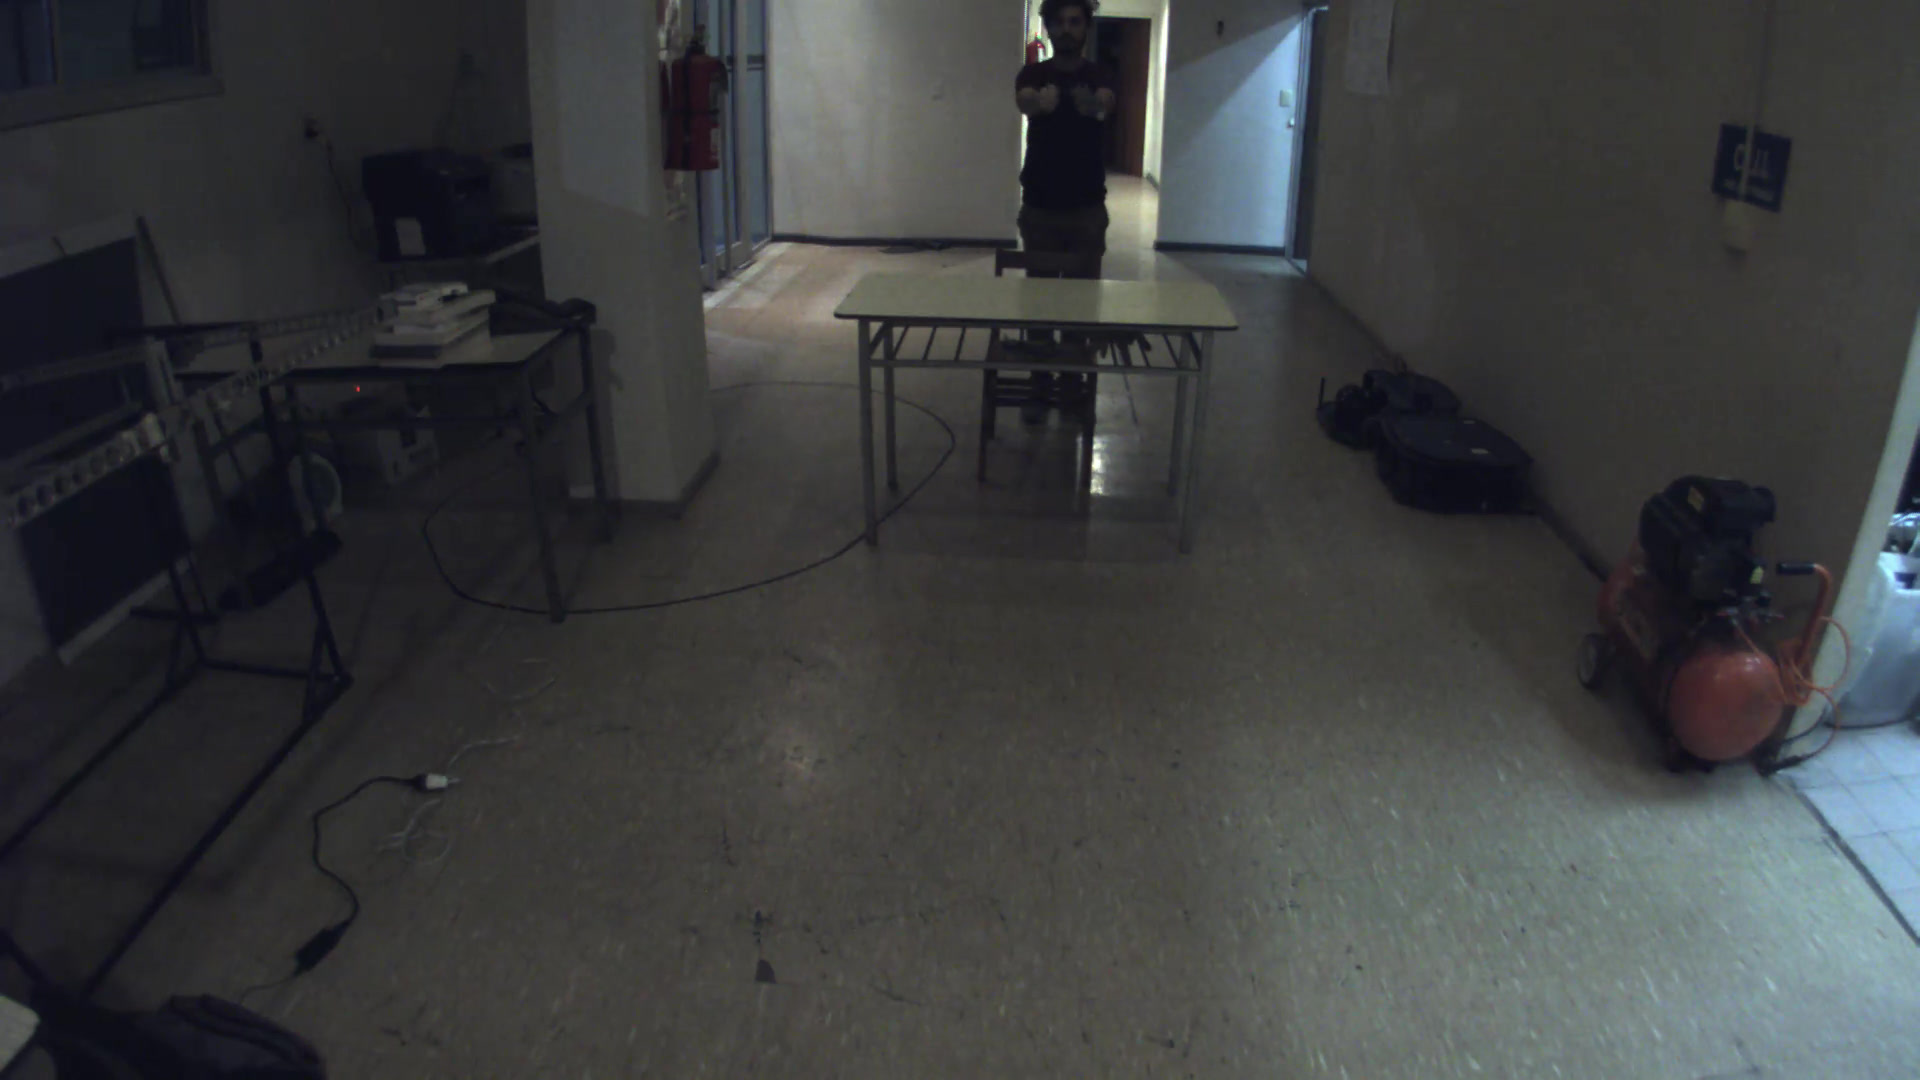hand: (1063, 75, 1109, 123), (1031, 78, 1063, 113)
